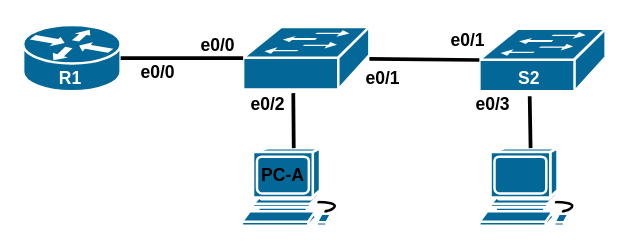
This 628x249 diagram has some shape labels left out. Here are the shapes that lost their labels. From the top down, the centre of each, then its label:
At [305,57]: "S1".
At [531,186]: "PC-B".
